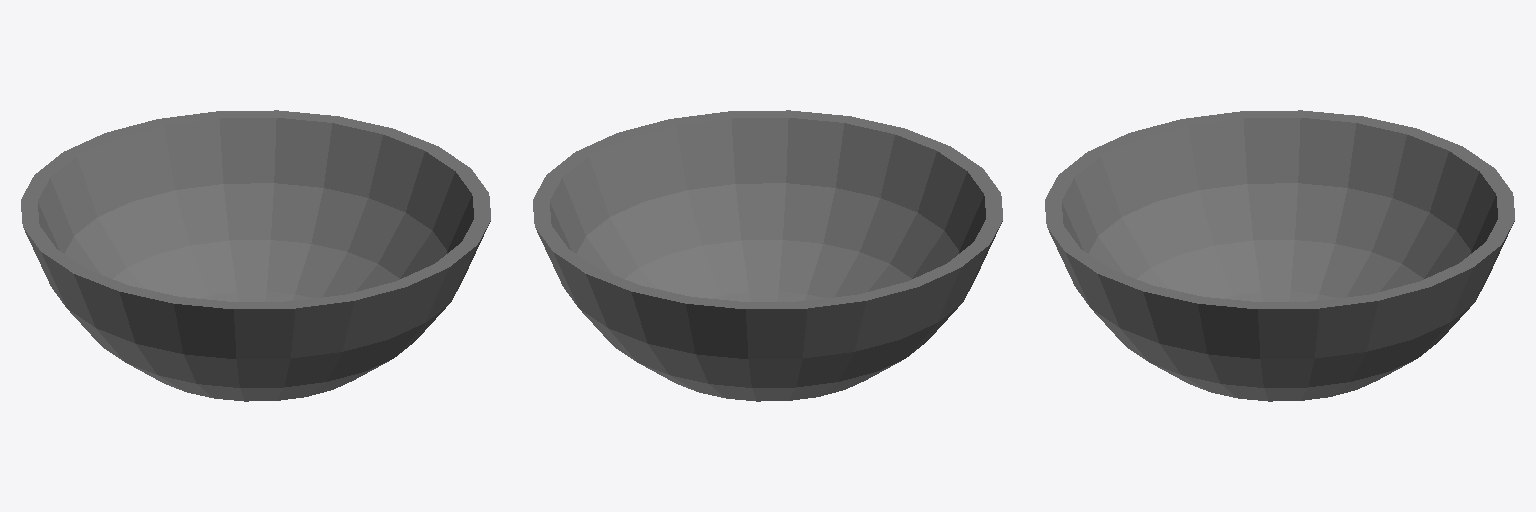
The robot description file, URDF, robot "object":
<?xml version="1.0"?>
<robot name="object">
  <link name="object">
    <visual>
      <origin xyz="0 0 0"/>
      <geometry>
        <mesh
          filename="../../mesh/oakink_virtual/bowl_s103.stl" />
      </geometry>
      <material name="mat">
        <color rgba="0.5 0.5 0.5 1"/>
      </material>
    </visual>

    <collision>
      <origin xyz="0 0 0"/>
      <geometry>
        <mesh
          filename="../../mesh/oakink_virtual/bowl_s103.stl" />
      </geometry>
    </collision>
  </link>
</robot>

--- Render facts (derived) ---
Views: 3 orthographic renders of the robot side by side, from view 1: azimuth 30°, elevation 25°; view 2: azimuth 150°, elevation 25°; view 3: azimuth 270°, elevation 25°.
Robot: object — 1 links, 0 joints (none); root link object; default pose: all joints at 0.
Links seen in each view (by area): view 1: object; view 2: object; view 3: object.
Link boxes in pixels (x1,y1,x2,y2): object: [21, 110, 490, 401]; object: [533, 110, 1002, 401]; object: [1045, 110, 1514, 401].
Bounding box of the posed robot: 0.1423 × 0.1423 × 0.0586 m (x, y, z).
1 mesh visuals loaded from 1 distinct referenced files (1 binary STL).